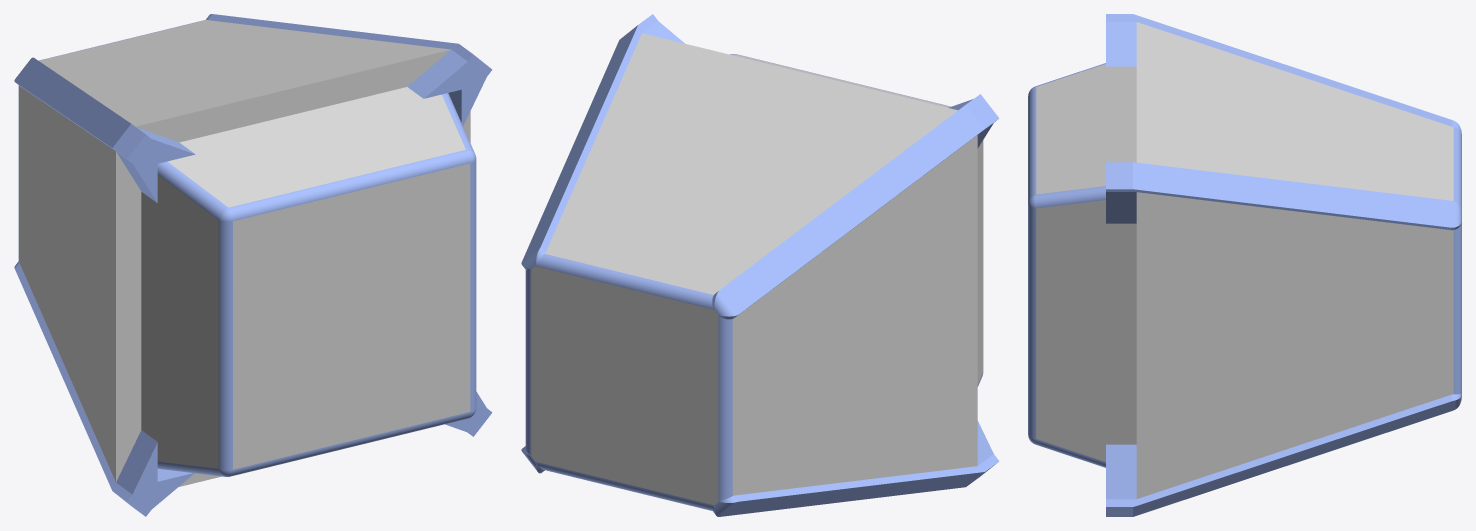
The model's file is Keystone v9.fbx.
3 renders of one model, left to right at view 1: azimuth 30°, elevation 25°; view 2: azimuth 150°, elevation 25°; view 3: azimuth 270°, elevation 25°, orthographic. The views are drawn at different scales.
Visible parts, largest first — view 1: Body1; view 2: Body1; view 3: Body1.
Boxes of the visible parts, <box> form: Body1: <box>14,14,492,516</box>; Body1: <box>521,14,999,516</box>; Body1: <box>1028,14,1461,516</box>.
Size of the model in its own units: 18.05 by 18.05 by 20.
